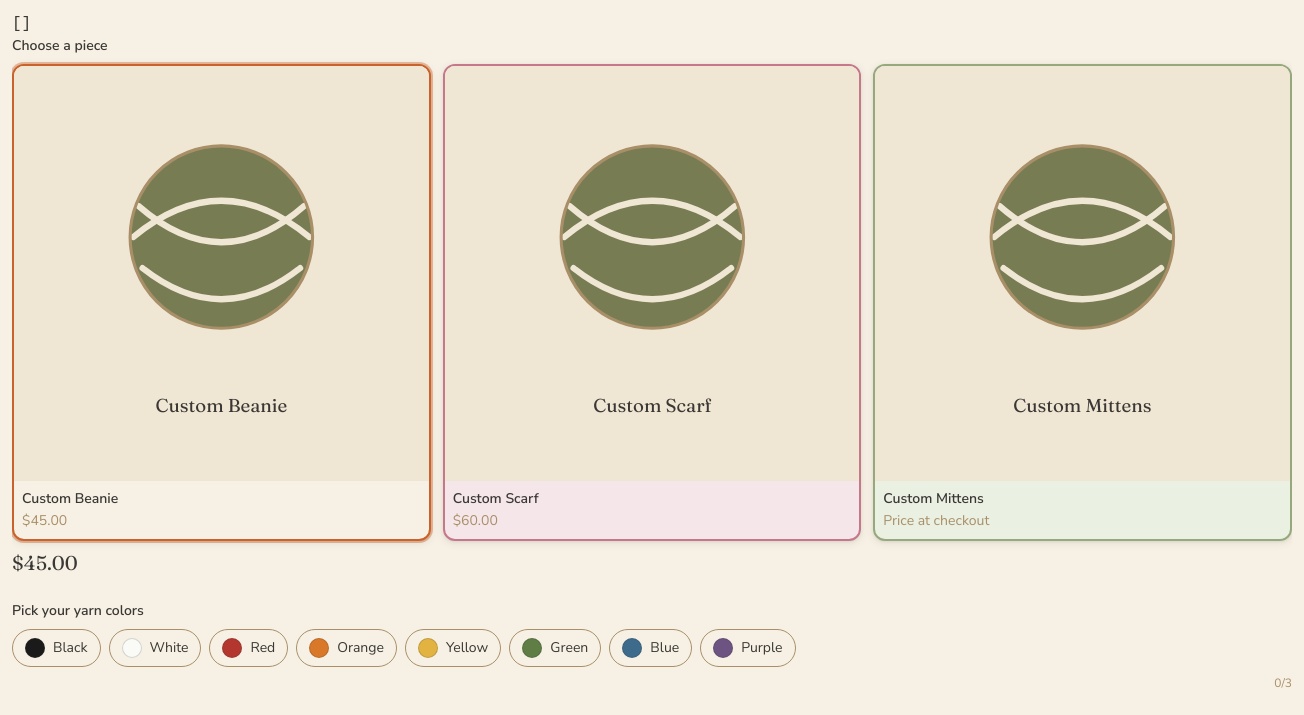
Test: CustomOrderForm › the swatches left over go flat at three, and the chosen ones stay live
This screenshot has width=1304, height=715.
What coordinates should you click on to do the following:
click the button "Red"
I would click on:
 (249, 648)
Its box is [209, 629, 288, 667].
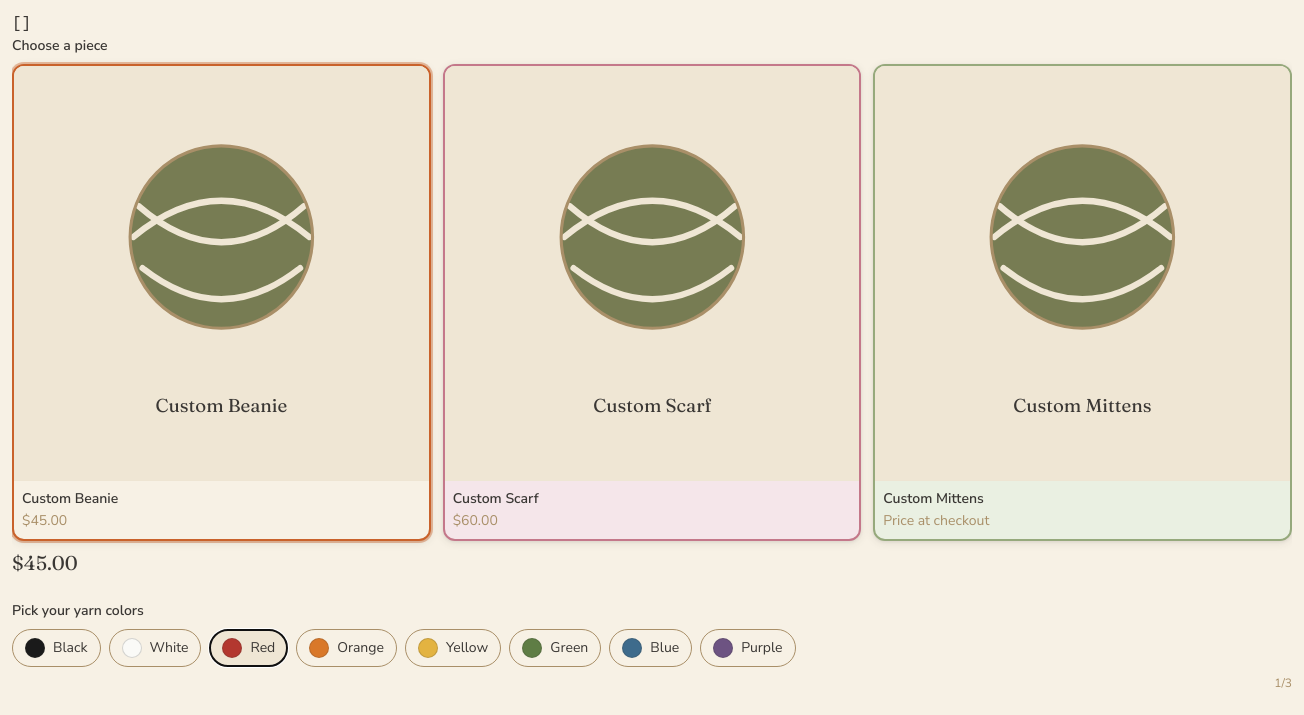
What coordinates should you click on to do the following:
click the button "Blue"
I would click on:
 (651, 648)
Its box is [609, 629, 692, 667].
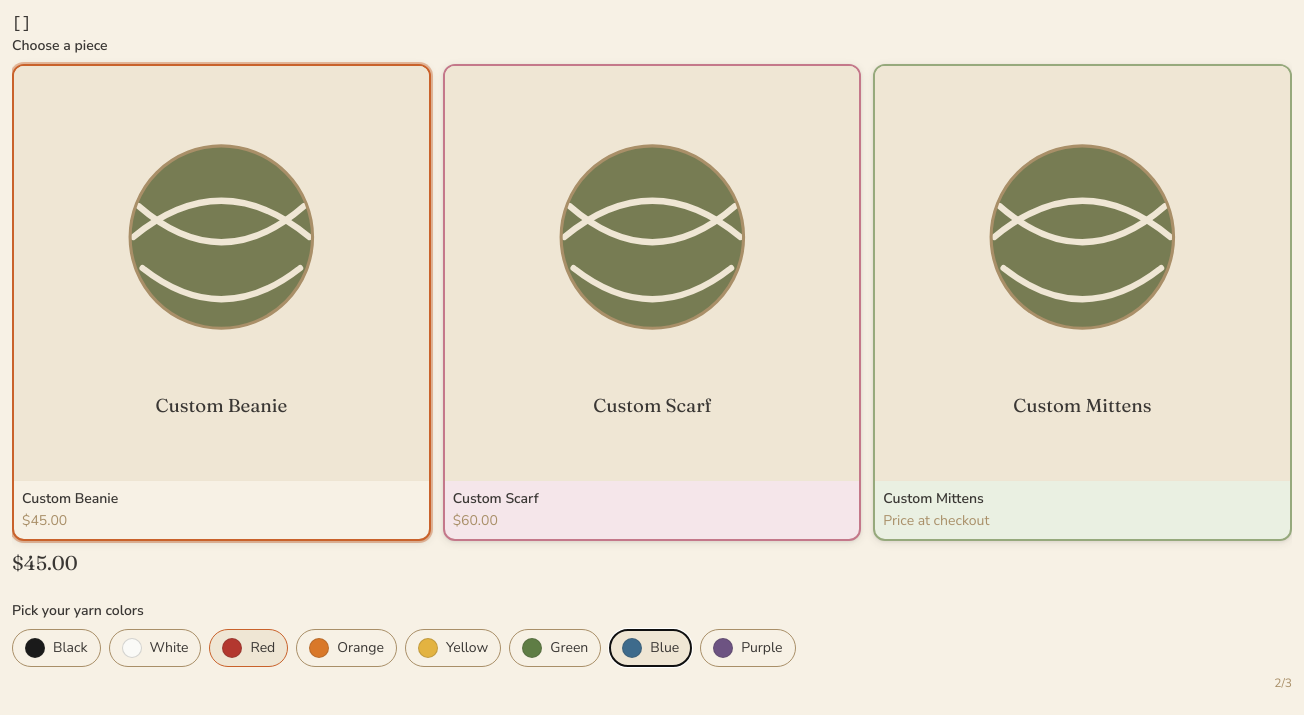
What coordinates should you click on to do the following:
click the button "Green"
I would click on:
 (555, 648)
Its box is [509, 629, 601, 667].
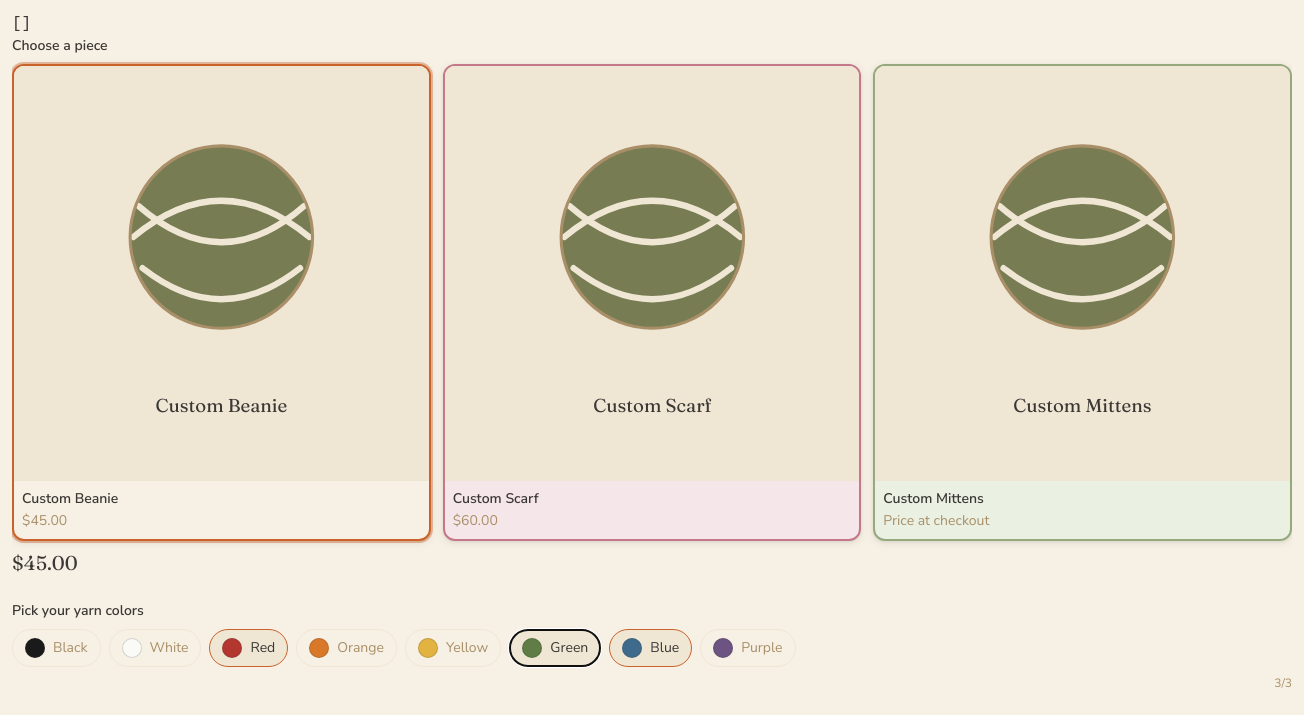
Check: the button "Black" is disabled, box [12, 629, 100, 667]
Check: the button "White" is disabled, box [108, 629, 201, 667]
Check: the button "Orange" is disabled, box [296, 629, 397, 667]
